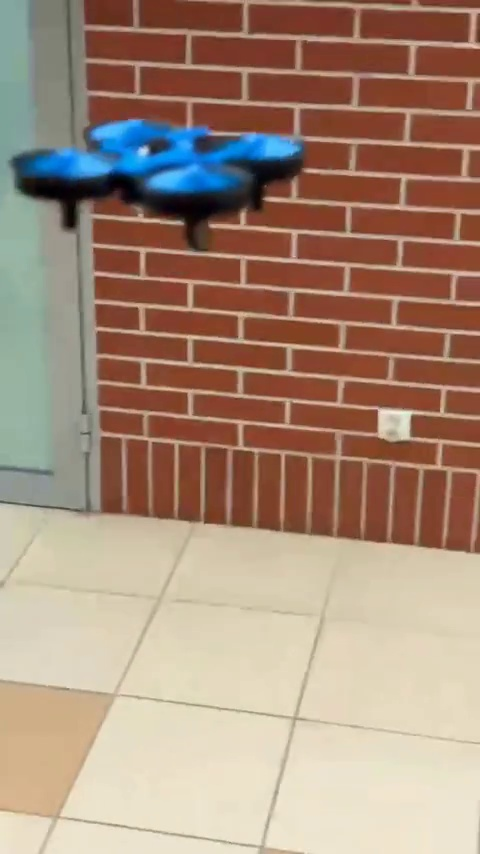drone: (15, 117, 304, 246)
